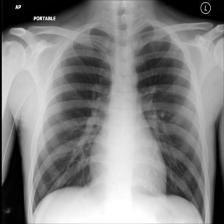normal: (28, 24, 206, 210)
